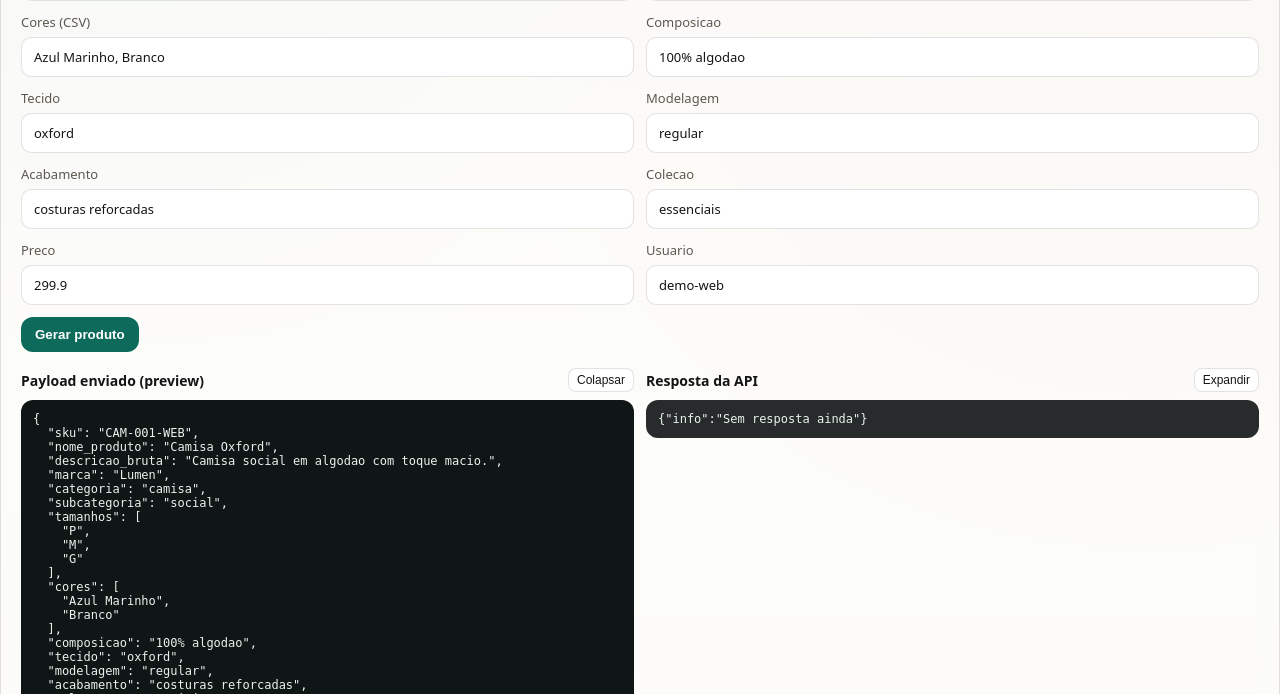
Test case: ProductGeneratorForm › mostra erro quando request falha
The width and height of the screenshot is (1280, 694).
(page scrolled)
Click the button "Gerar produto" at (80, 334), box [21, 317, 139, 352]
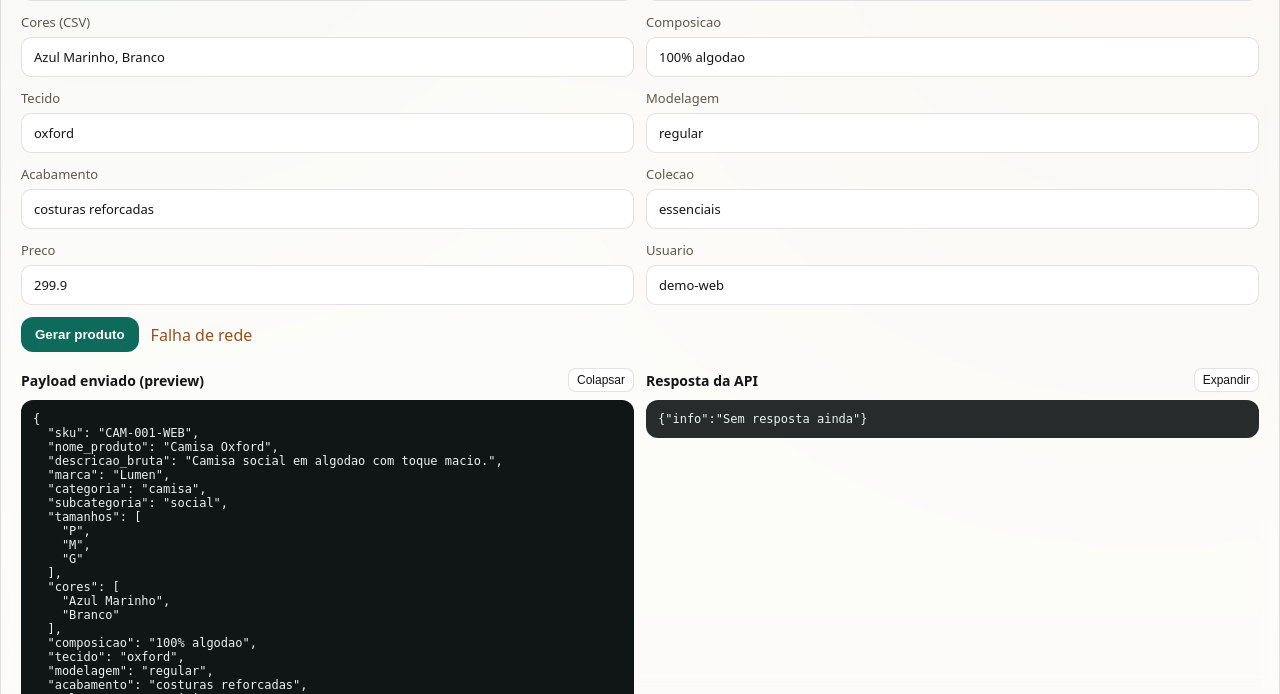
Result: the text "Falha de rede" is shown at [151, 324, 252, 346]
